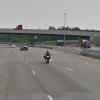Motorcycle: (40, 49, 56, 66)
